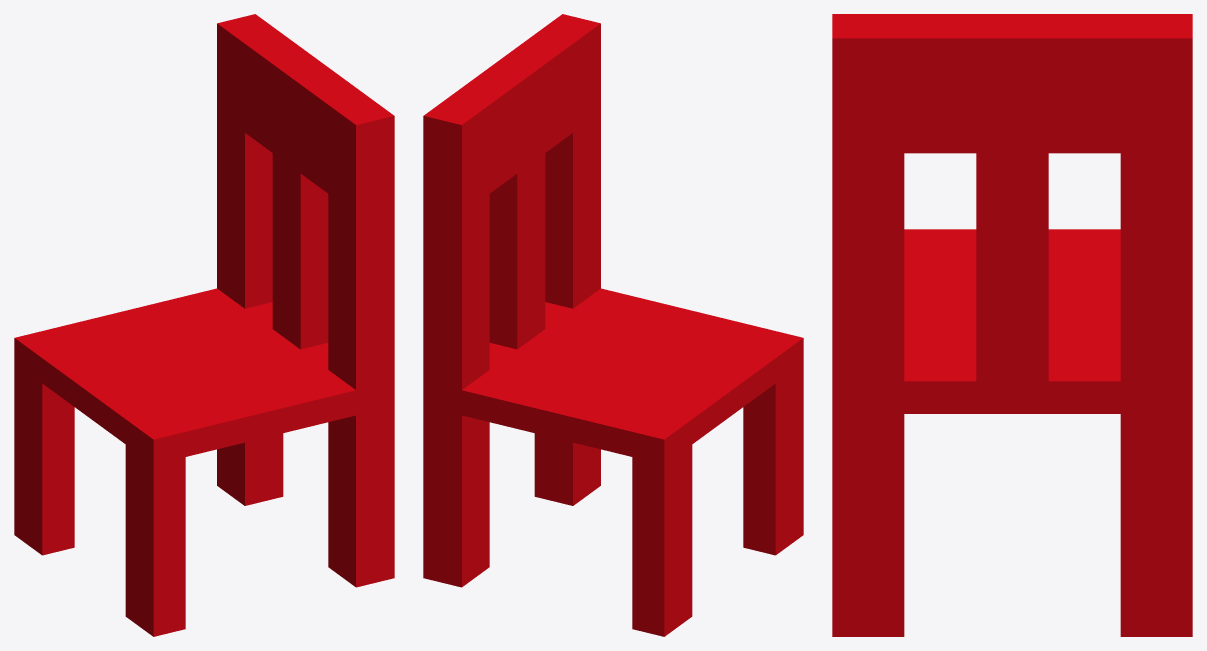
File: FixedRedChair.fbx
3 views of the same model, side by side, from view 1: azimuth 30°, elevation 25°; view 2: azimuth 150°, elevation 25°; view 3: azimuth 270°, elevation 25° (orthographic). The views are drawn at different scales.
Visible parts, largest first — view 1: Cube; view 2: Cube; view 3: Cube.
Part boxes in pixels (bbox=[...]): Cube: bbox=[14, 14, 394, 636]; Cube: bbox=[423, 14, 803, 636]; Cube: bbox=[832, 14, 1192, 636].
Size of the model in its own units: 200 by 367 by 200.
